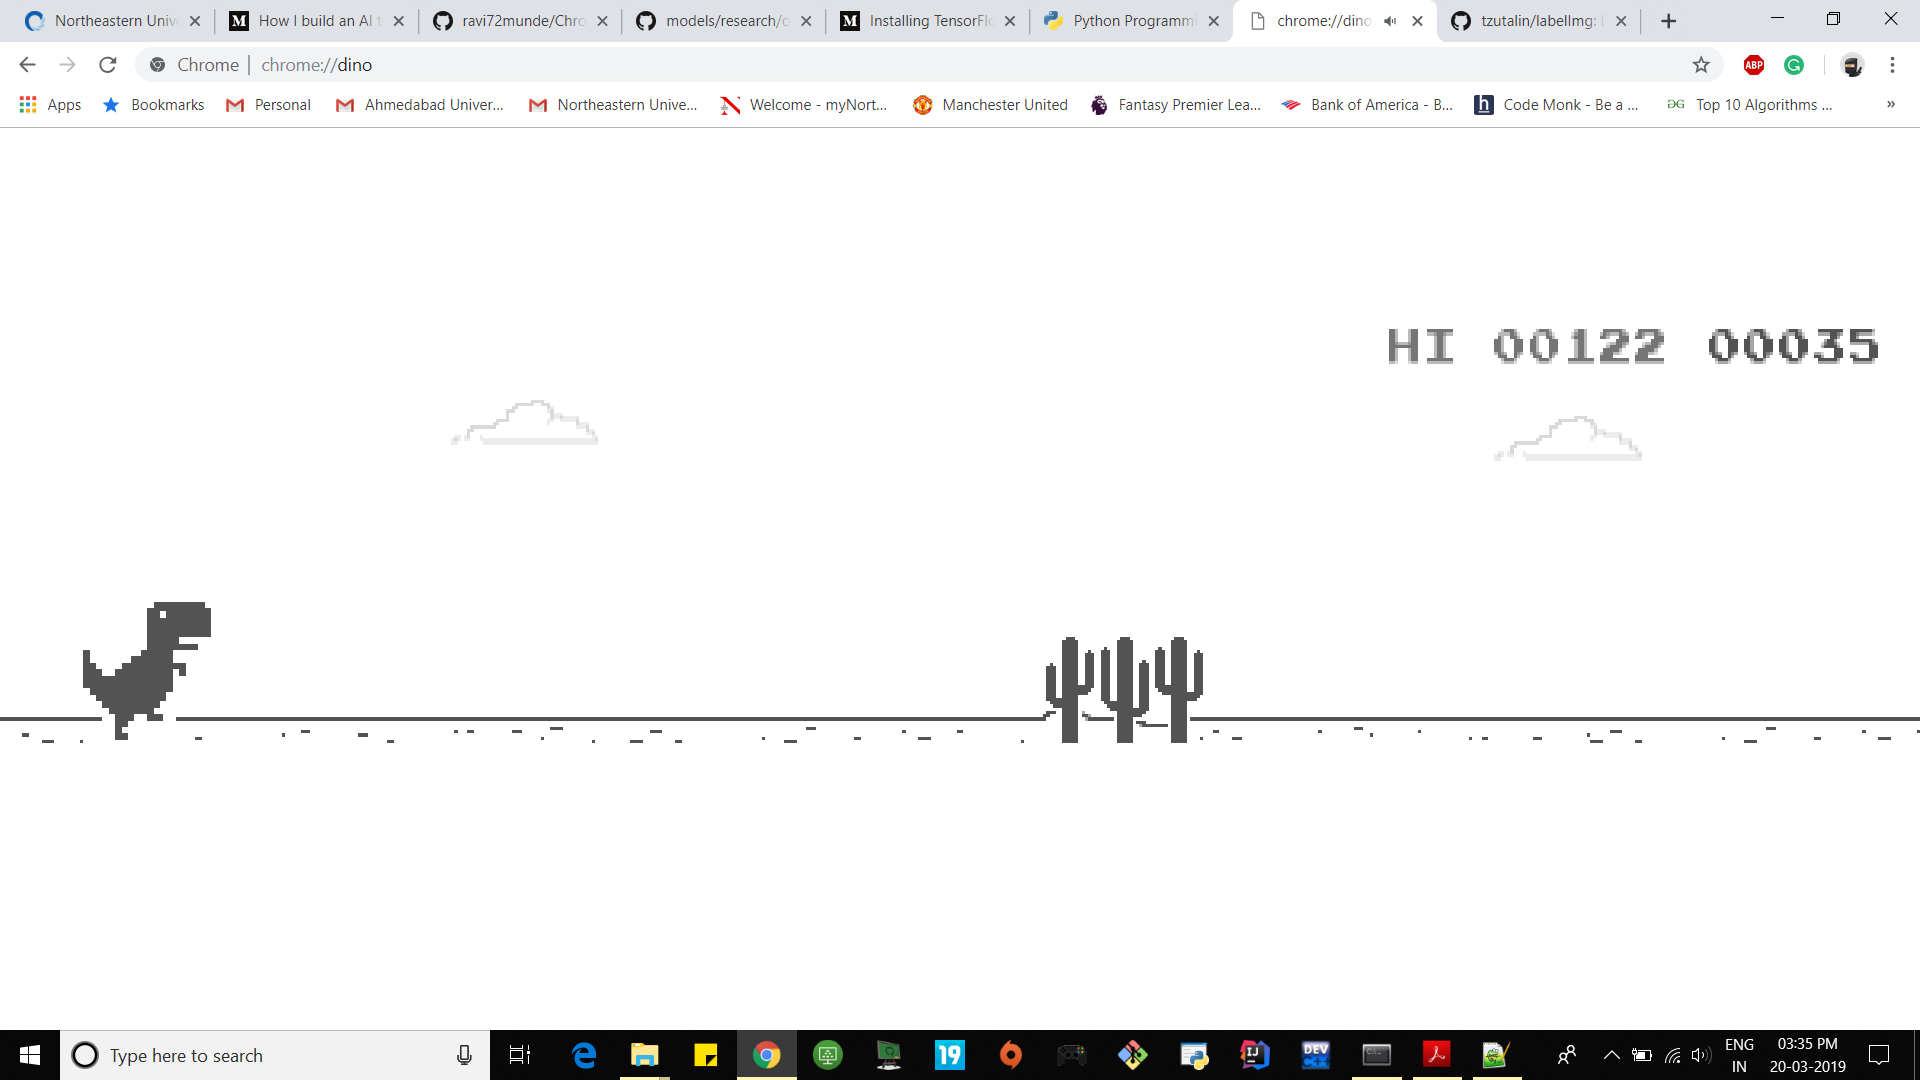cactus-3: (1025, 620, 1207, 746)
dino: (69, 597, 224, 741)
